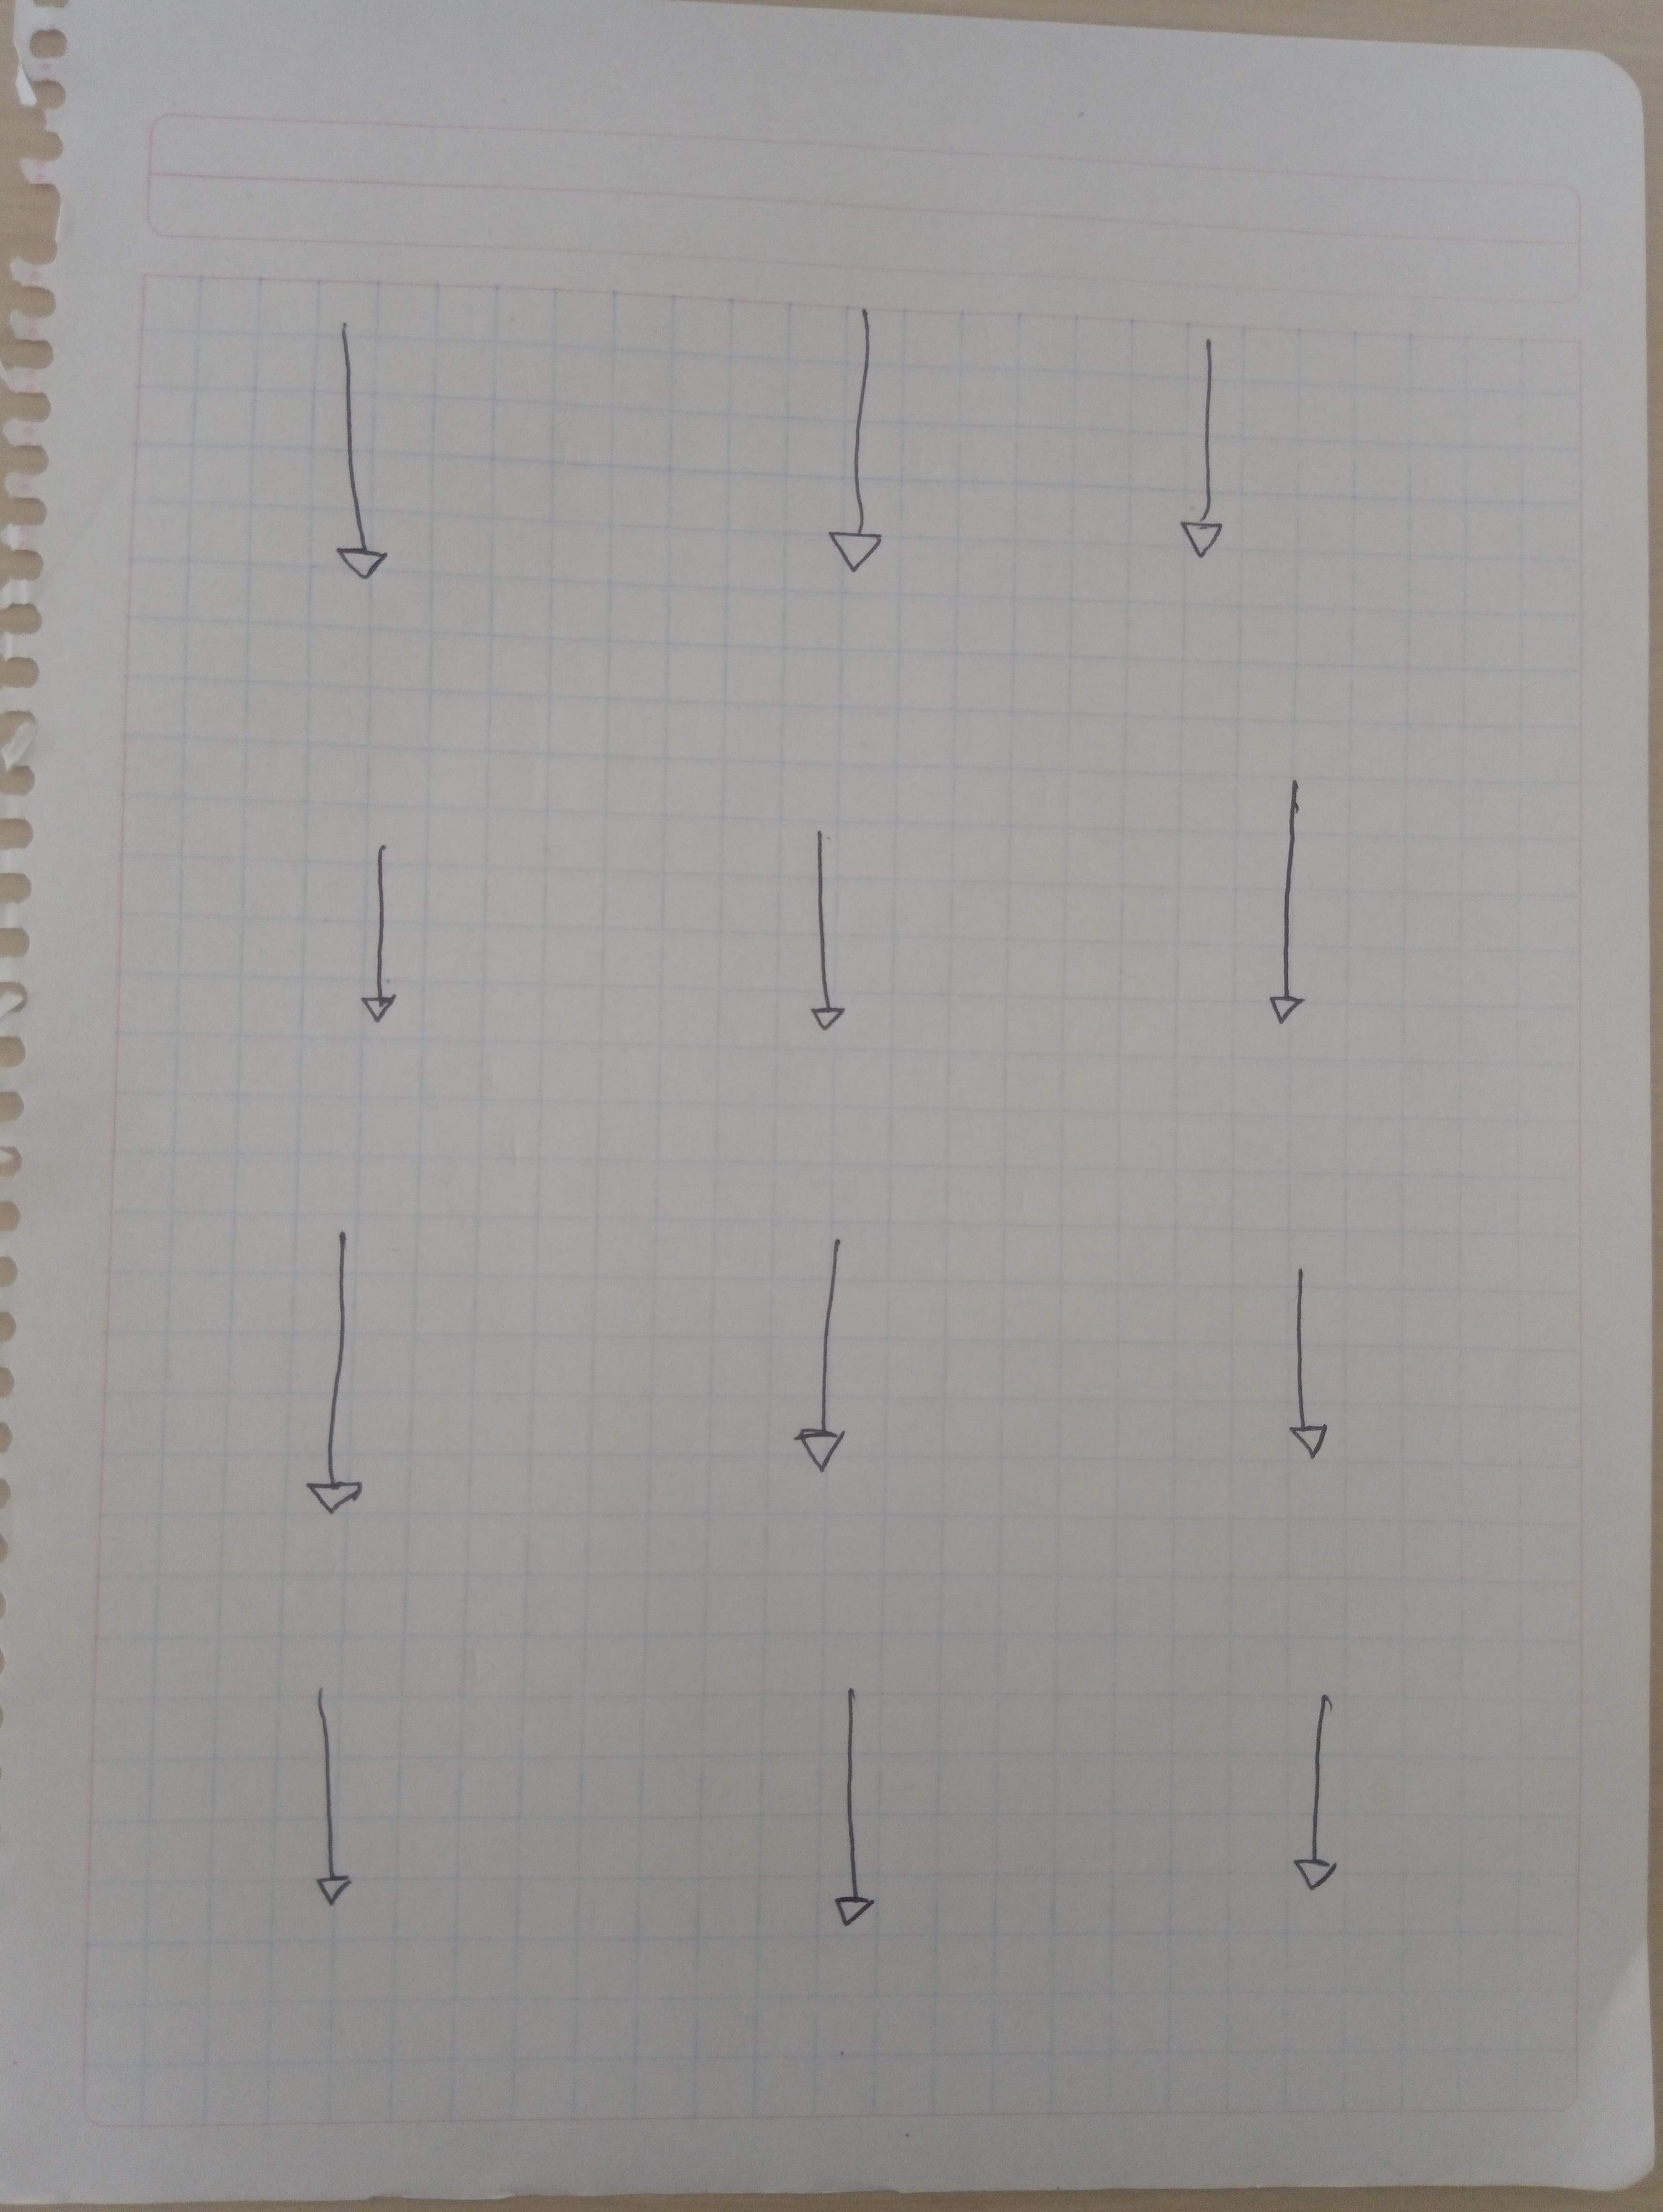arrow_line_down: (313, 339, 412, 599), (278, 1678, 374, 1926), (821, 309, 898, 595), (1254, 772, 1340, 1028), (777, 821, 872, 1049), (344, 821, 435, 1046), (1263, 1271, 1363, 1474), (769, 1240, 851, 1482), (304, 1219, 365, 1531), (1163, 326, 1240, 567), (1275, 1695, 1357, 1920), (816, 1673, 880, 1941)
